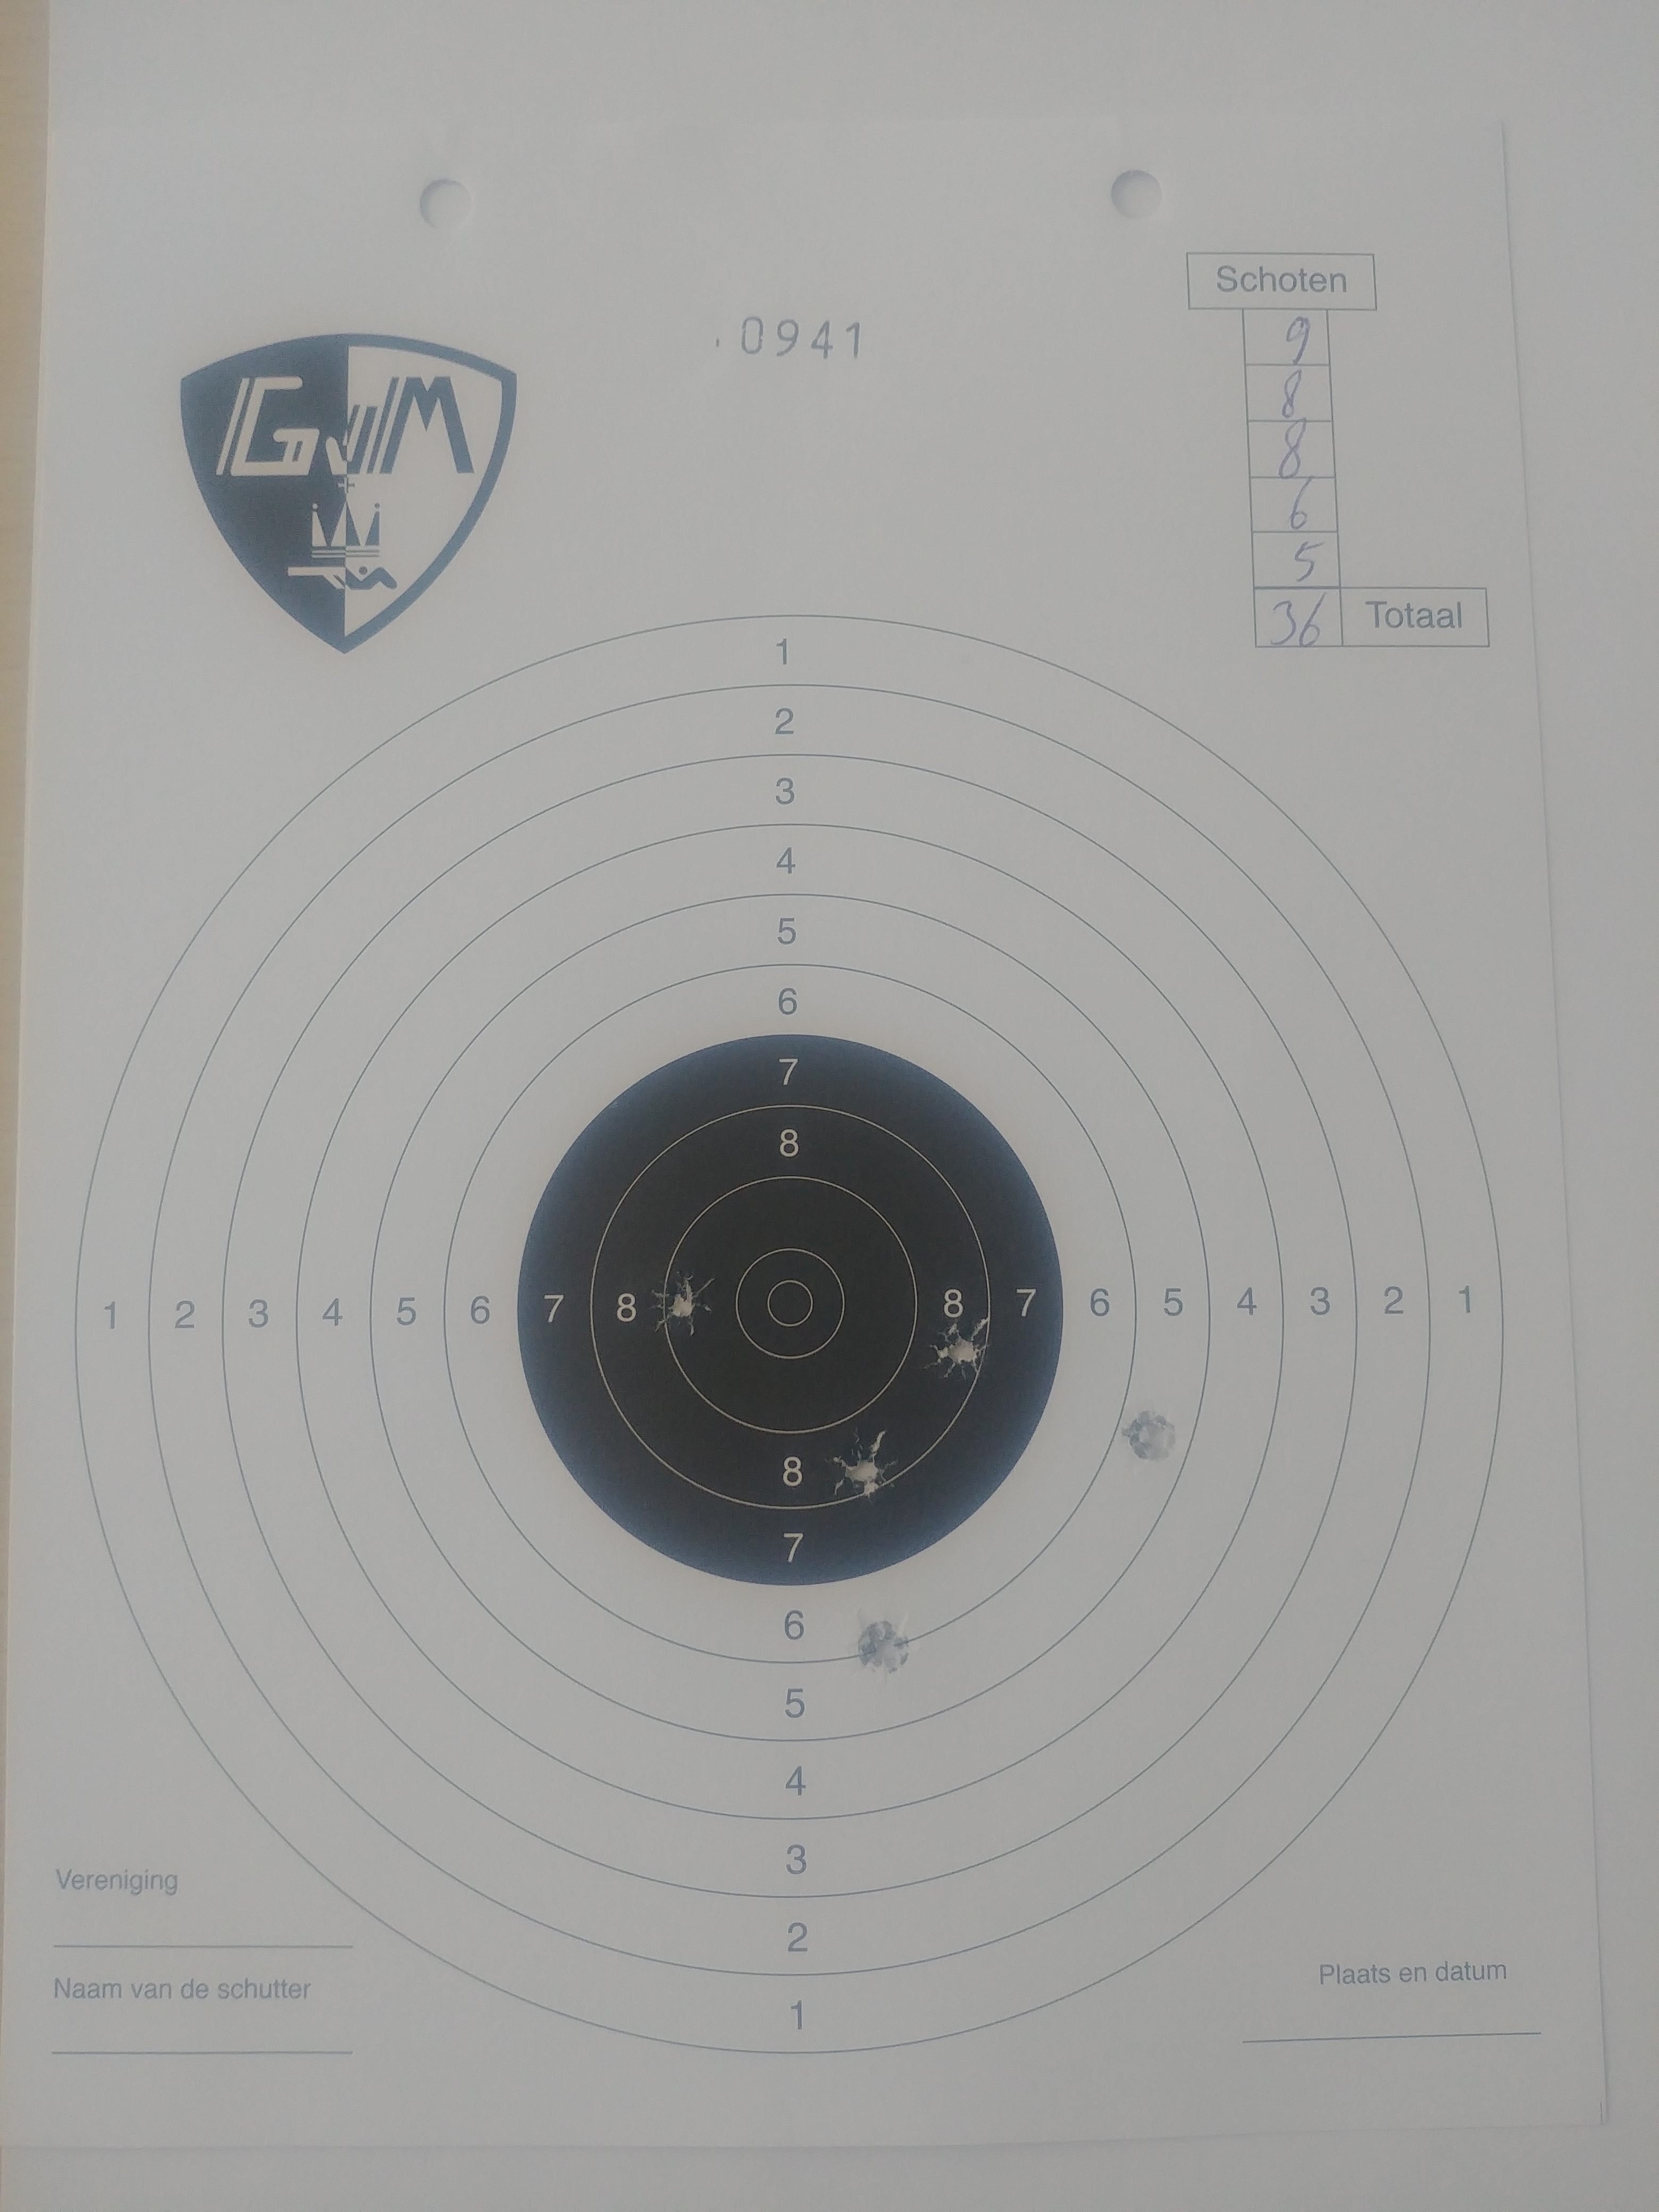center: (514, 1033, 1066, 1590)
out: (70, 611, 1511, 2060)
shot: (924, 1317, 995, 1381), (831, 1430, 892, 1500), (852, 1616, 915, 1677), (652, 1273, 711, 1331), (1122, 1407, 1180, 1465)
target: (735, 1247, 849, 1360)
